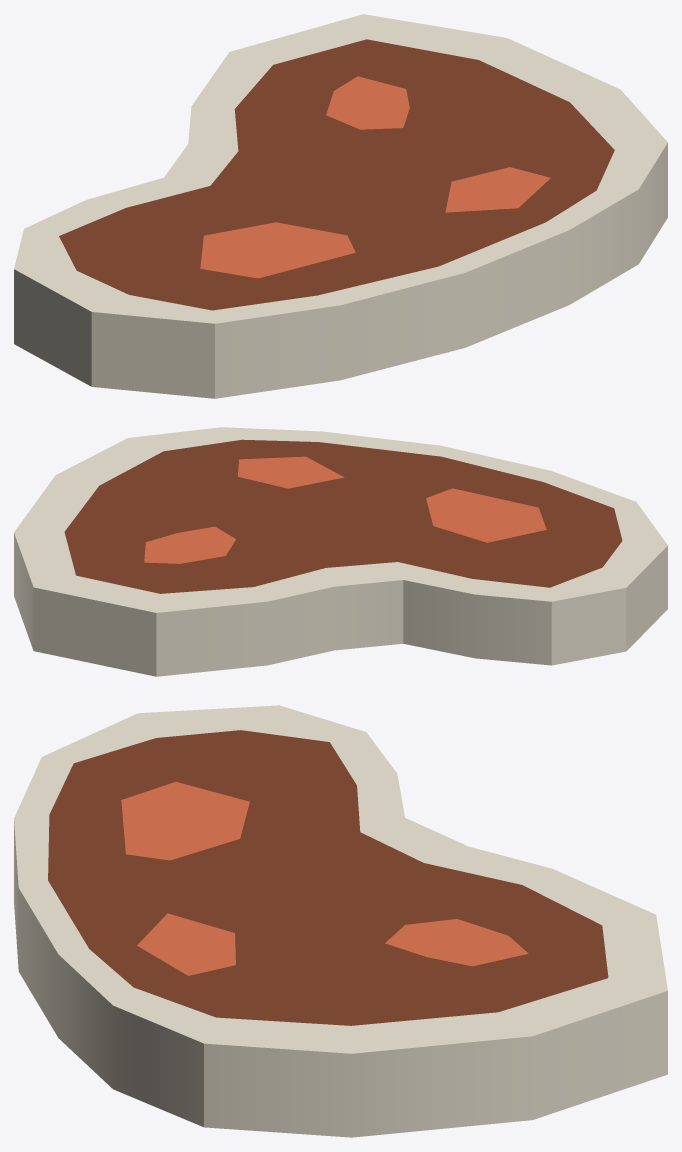
File: Steak.fbx
3 views of the same model, one above another, from view 1: azimuth 30°, elevation 25°; view 2: azimuth 150°, elevation 25°; view 3: azimuth 270°, elevation 25° (orthographic). The views are drawn at different scales.
Visible parts, largest first — view 1: Steak; view 2: Steak; view 3: Steak.
Boxes of the visible parts, box(x1,y1,x2,y2) form: Steak: box(14, 14, 667, 398); Steak: box(14, 427, 667, 676); Steak: box(14, 705, 667, 1137).
Bounding box in the file's own units: 78.38 × 8.79 × 62.17.
